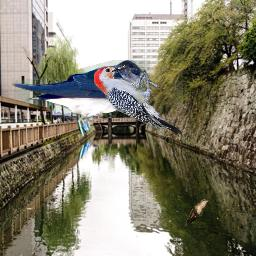Cuckoo: (184, 199, 209, 228)
Swallow: (12, 60, 150, 128)
Woodpecker: (94, 65, 183, 137)
